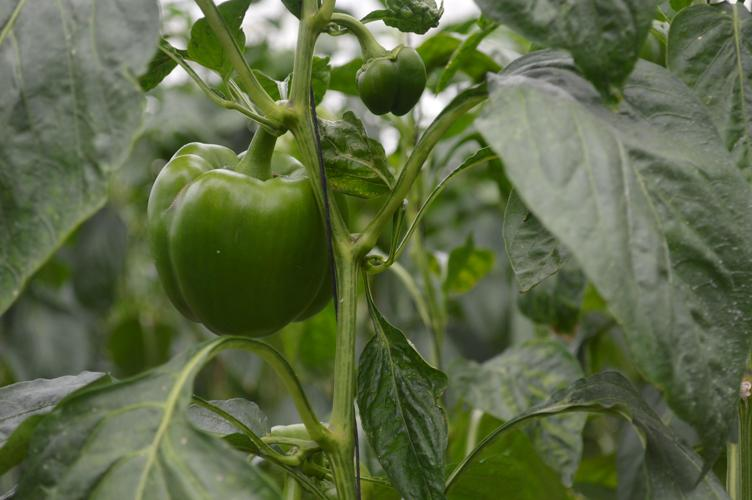BellPepper: (147, 141, 338, 332), (358, 42, 424, 116)
